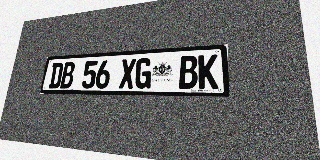5: (81, 61, 98, 88)
6: (95, 60, 112, 89)
B: (179, 55, 198, 89), (60, 62, 76, 88)
D: (48, 62, 64, 88)
G: (134, 58, 152, 89)
K: (198, 54, 218, 89)
X: (119, 59, 136, 89)
